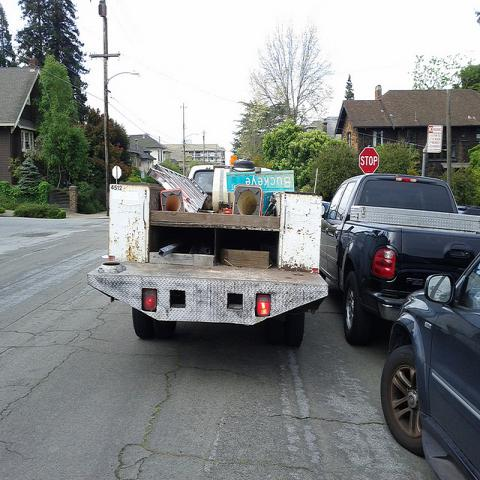car: (380, 250, 478, 475)
truck: (87, 154, 330, 350), (319, 172, 479, 348)
